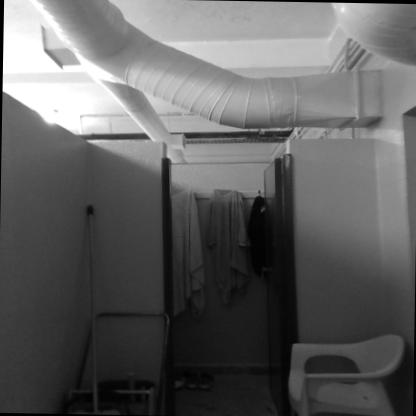open: (148, 130, 302, 396)
